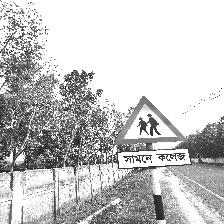College-in-front: (117, 87, 196, 169)
